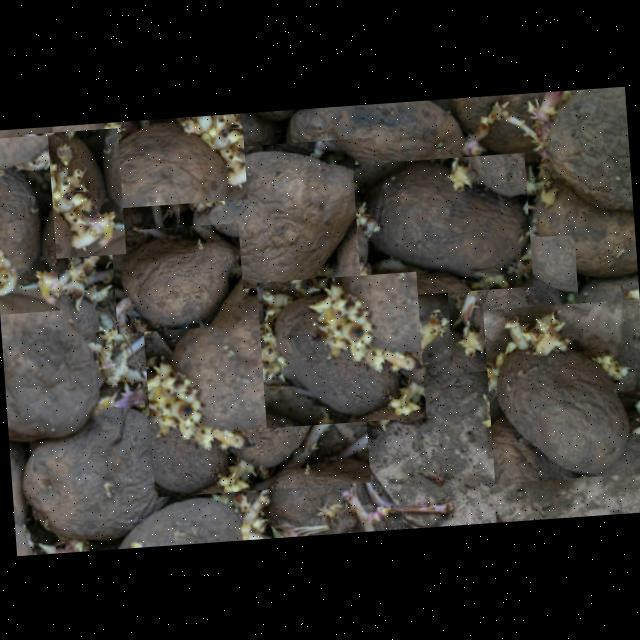Sprouted potato: (140, 279, 370, 496), (174, 136, 383, 319), (481, 298, 640, 482), (17, 390, 183, 553), (255, 270, 425, 427), (351, 152, 532, 298), (0, 253, 113, 448), (280, 96, 470, 203), (50, 112, 246, 211), (443, 233, 582, 372), (15, 126, 126, 260), (109, 222, 244, 332), (529, 86, 632, 213), (0, 133, 58, 313)
